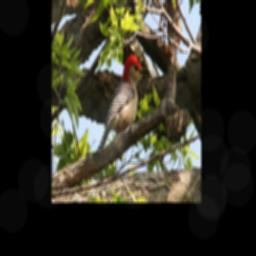Woodpecker: (93, 51, 151, 155)
